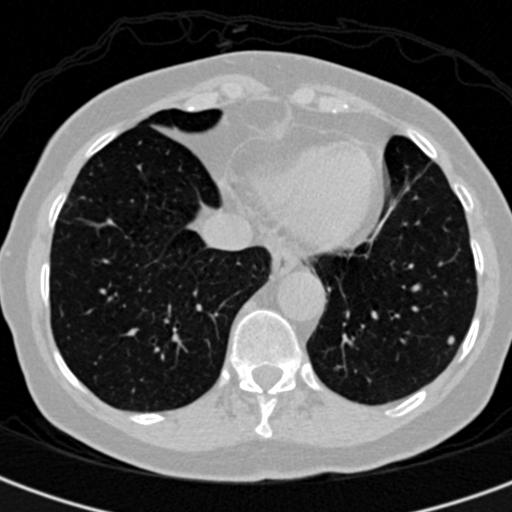nodule: (444, 333, 458, 347)
